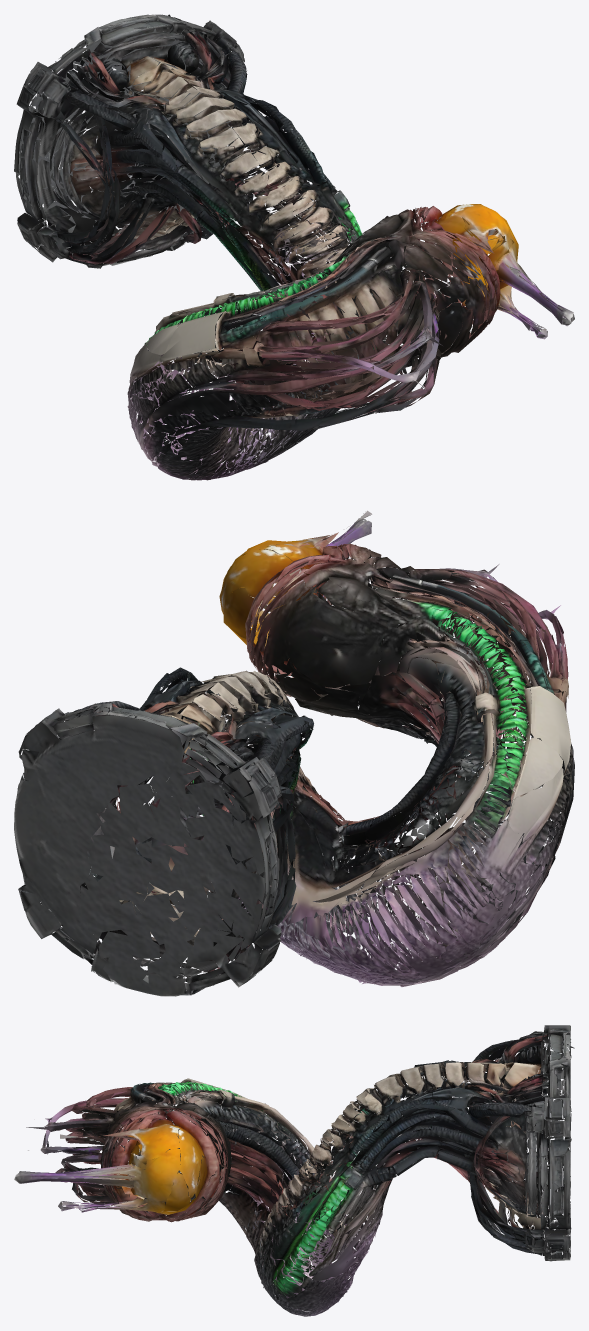
Rendered from hive_visceral_ovipositor.glb.
The picture shows the model from 3 angles, top to bottom: view 1: azimuth 30°, elevation 25°; view 2: azimuth 150°, elevation 25°; view 3: azimuth 270°, elevation 25°; orthographic projection. The views are drawn at different scales.
Parts seen in each view (by area): view 1: node_0; view 2: node_0; view 3: node_0.
Boxes of the visible parts, box(x1,y1,x2,y2) form: node_0: box(14, 14, 574, 480); node_0: box(14, 510, 574, 996); node_0: box(14, 1025, 574, 1316).
Bounding box in the file's own units: 0.6087 × 0.581 × 1.04.
1 material, 1 textured.
